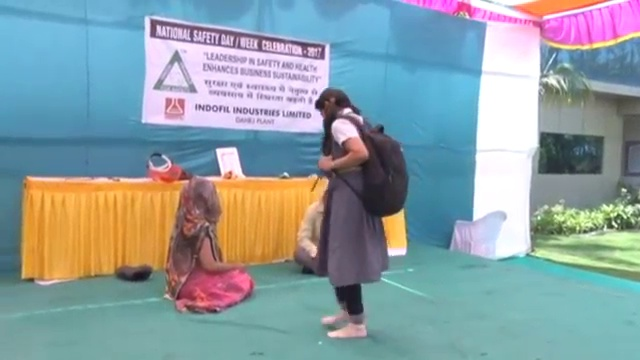helmet_off: (180, 176, 221, 222), (316, 87, 352, 121)
person: (313, 84, 411, 342), (164, 176, 255, 315), (297, 185, 346, 278)
